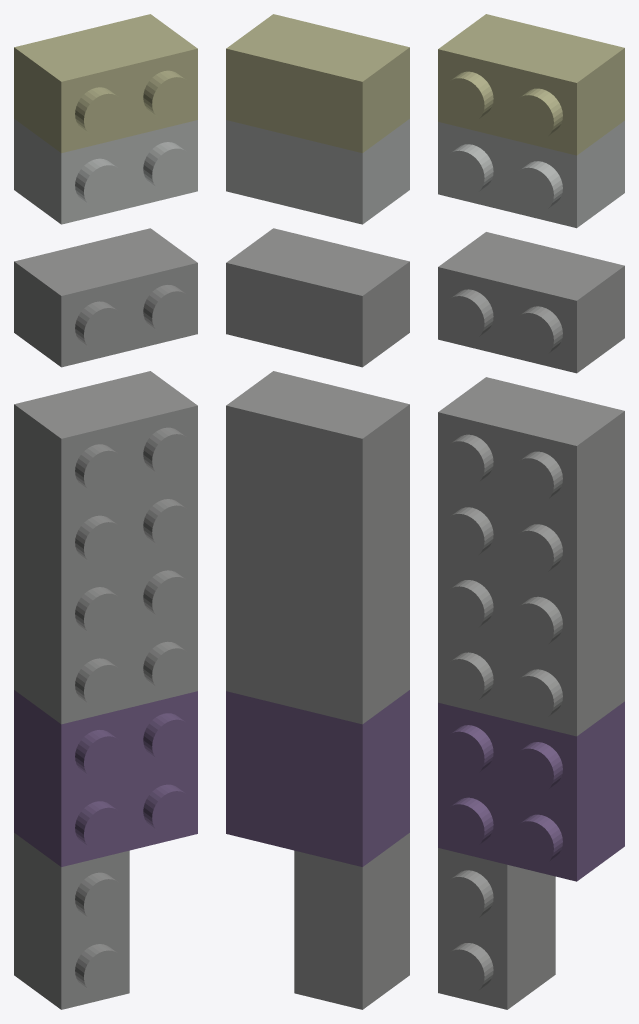
The model's file is current.glb.
The picture shows the model from 3 angles, left to right: view 1: azimuth 30°, elevation 25°; view 2: azimuth 150°, elevation 25°; view 3: azimuth 330°, elevation 25°; orthographic projection.
Visible parts, largest first — view 1: world; view 2: world; view 3: world.
Boxes of the visible parts, box(x1,y1,x2,y2) form: world: box(14, 14, 197, 1009); world: box(226, 14, 409, 1009); world: box(438, 14, 624, 1009).
Size of the model in its own units: 16 by 104 by 11.4.
